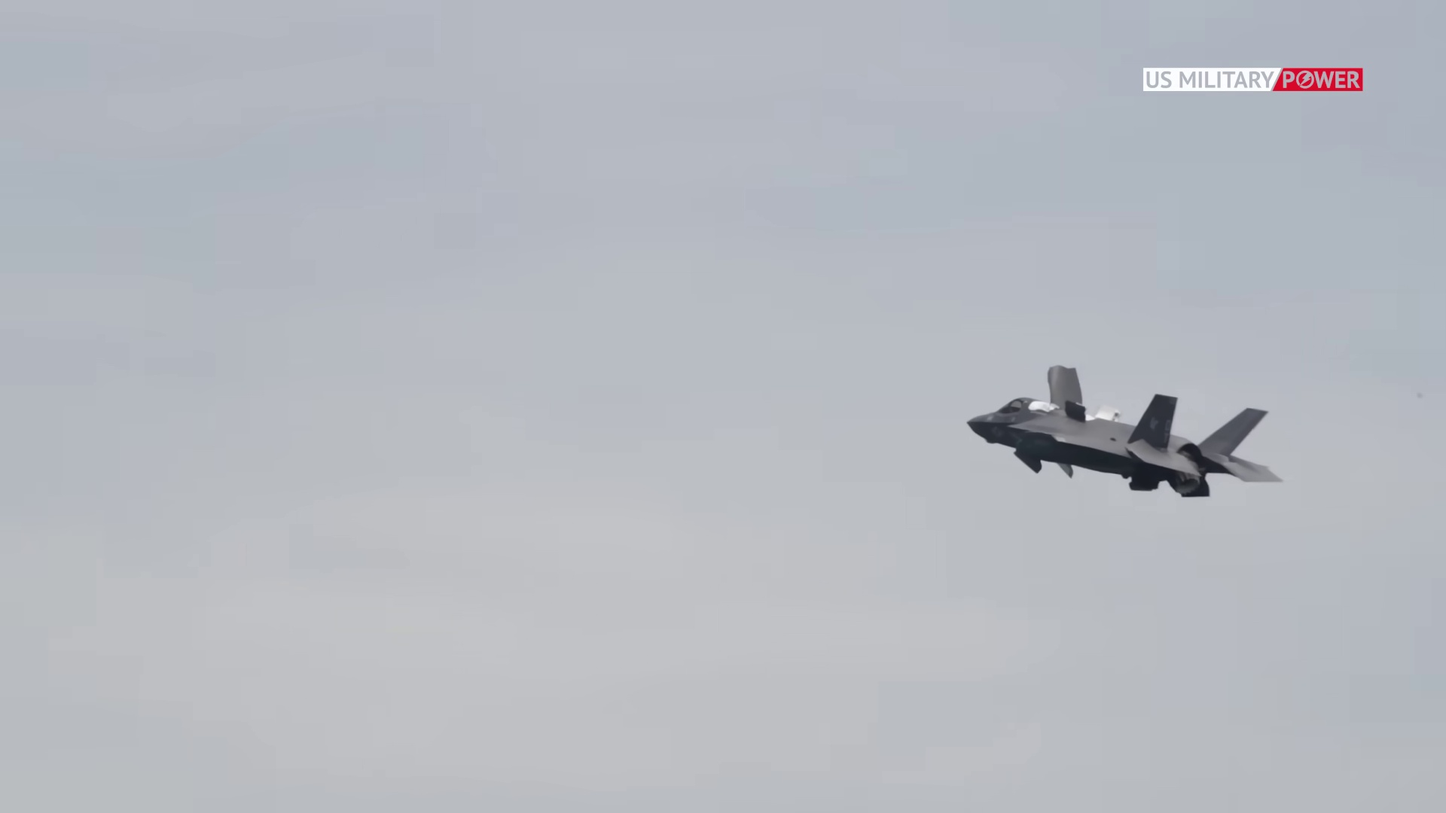F35: (961, 359, 1281, 503)
